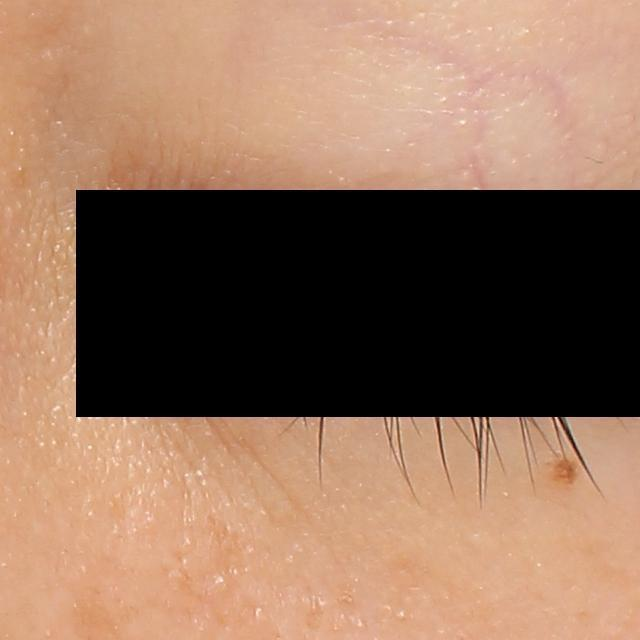nevus: (547, 456, 585, 490)
